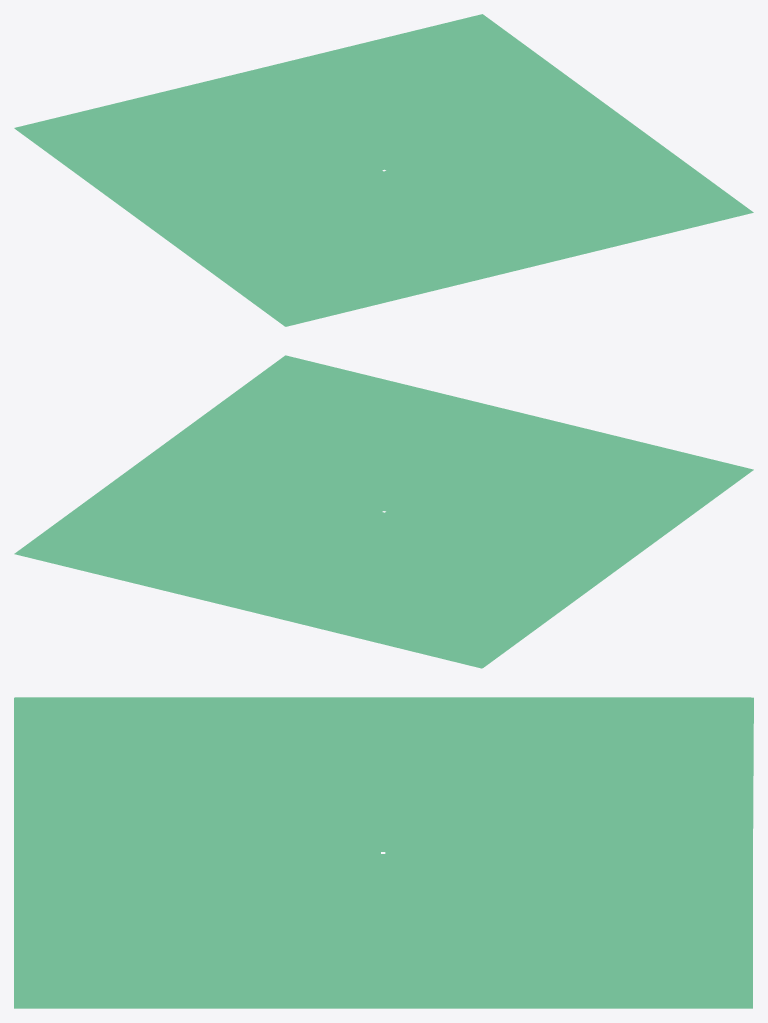
File: [arch] Ocean.fbx
3 views of the same model, one above another, from view 1: azimuth 30°, elevation 25°; view 2: azimuth 150°, elevation 25°; view 3: azimuth 270°, elevation 25° (orthographic). The views are drawn at different scales.
Visible parts, largest first — view 1: Ocean; view 2: Ocean; view 3: Ocean.
Boxes of the visible parts, x1,y1,x2,y2 form: Ocean: (15, 14, 753, 326); Ocean: (15, 355, 753, 667); Ocean: (15, 697, 751, 1008).
Size of the model in its own units: 594663 by 14.27 by 597483.
